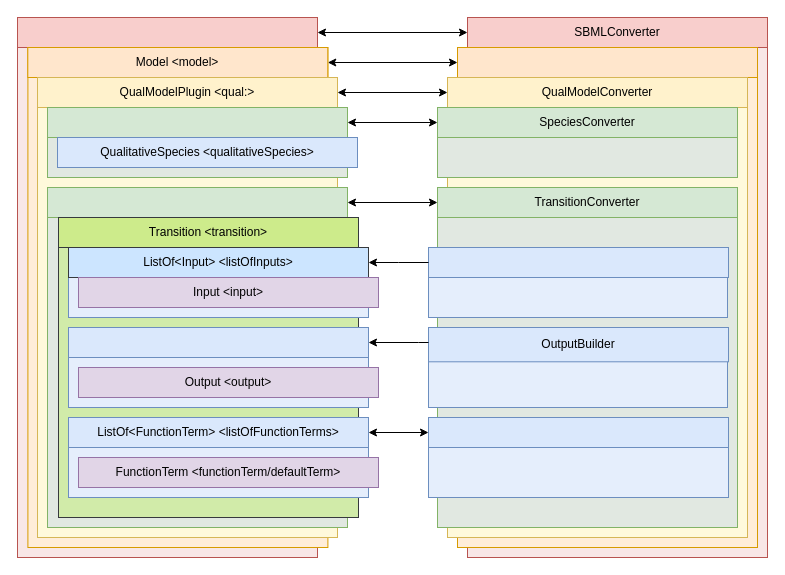
This 785x575 diagram has some shape labels left out. Each missing label, with the centre of its shape:
"FunctionTermConverter" belongs at pixel 578 432.
"InputBuilder" belongs at pixel 578 262.
"ListOf<Output> <listOfOutputs>" belongs at pixel 218 342.
"ListOf<QualitativeSpecies> <listOfQualitativeSpecies>" belongs at pixel 197 122.
"ListOf<Transition> <listOfTransitions>" belongs at pixel 197 202.
"ModelConverter" belongs at pixel 607 62.
"SBMLDocument <sbml>" belongs at pixel 167 32.
